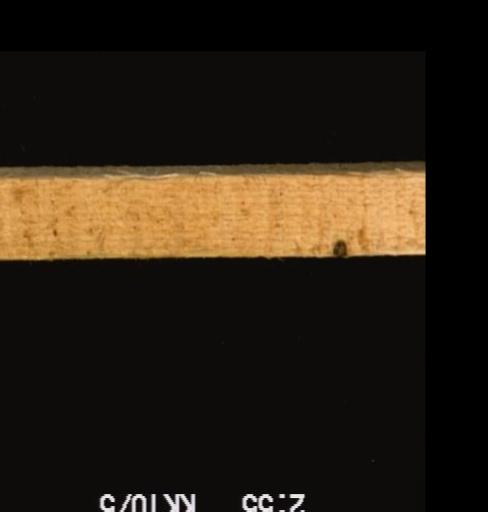edge_knot: (331, 238, 347, 256)
